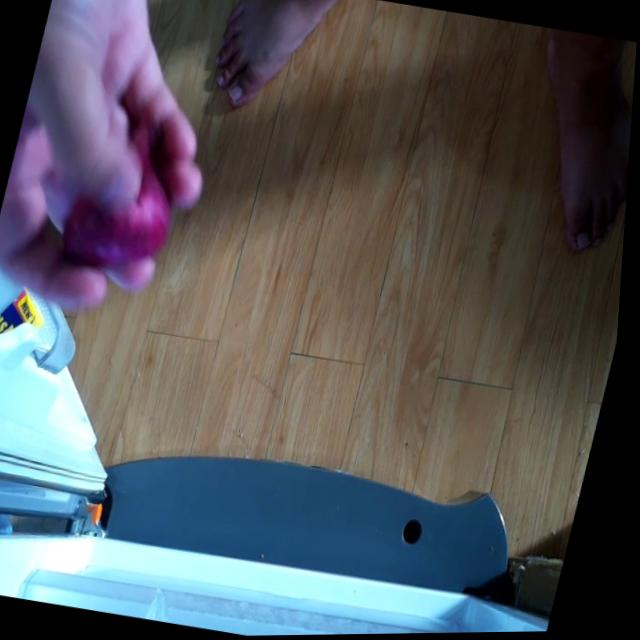onion: (56, 115, 191, 277)
